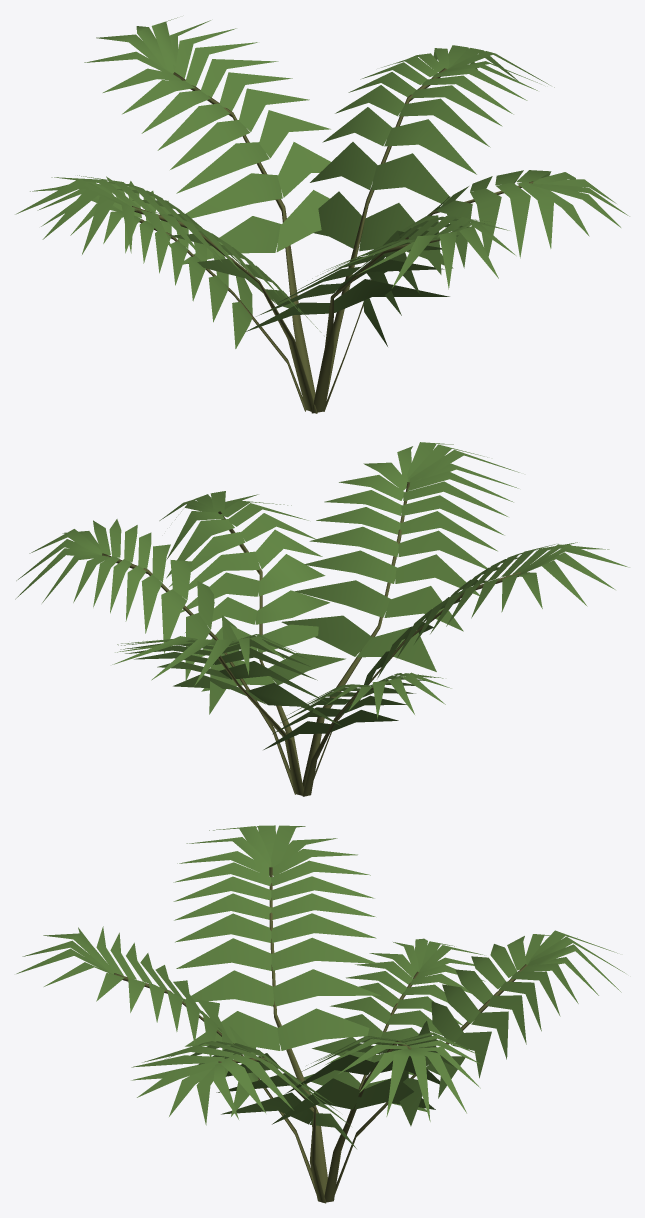
File: JunglePlant_09.glb
3 views of the same model, one above another, from view 1: azimuth 30°, elevation 25°; view 2: azimuth 150°, elevation 25°; view 3: azimuth 270°, elevation 25° (orthographic). The views are drawn at different scales.
Visible parts, largest first — view 1: JunglePlant_09; view 2: JunglePlant_09; view 3: JunglePlant_09.
Boxes of the visible parts, left/top/right/bottom form: JunglePlant_09: left=15, top=17, right=629, bottom=413; JunglePlant_09: left=15, top=442, right=629, bottom=796; JunglePlant_09: left=16, top=825, right=625, bottom=1203.
Size of the model in its own units: 2.46 by 1.22 by 2.57.
Materials: 1 (1 with a texture image).
